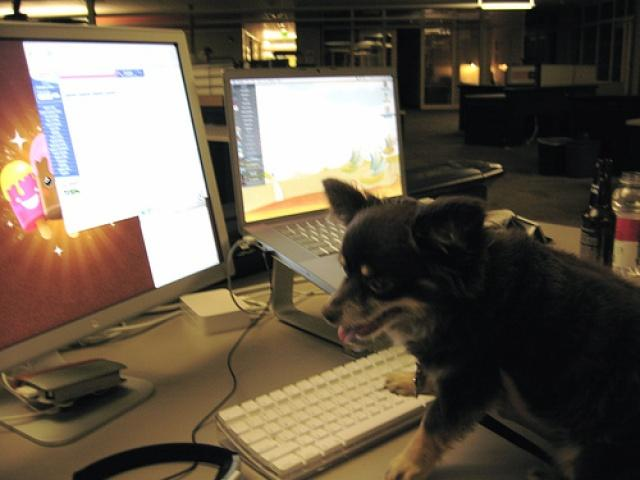AIO PC-Monitor-TV: (0, 19, 235, 445)
